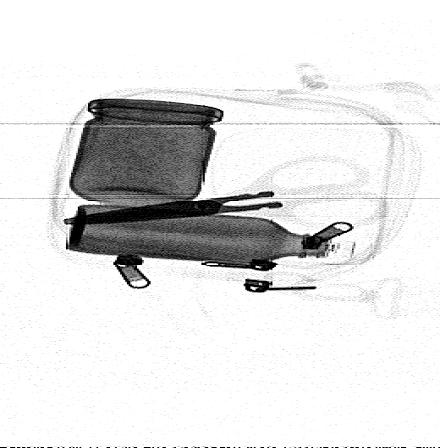Scissors: (63, 151, 387, 233)
